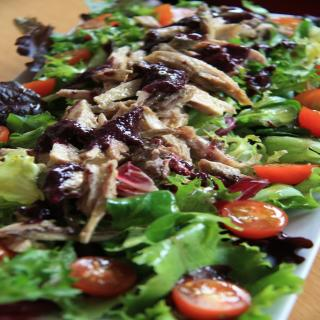tomato: (171, 279, 255, 319), (65, 253, 143, 295), (227, 202, 283, 243), (251, 162, 315, 182), (296, 105, 320, 137), (293, 88, 319, 110)
